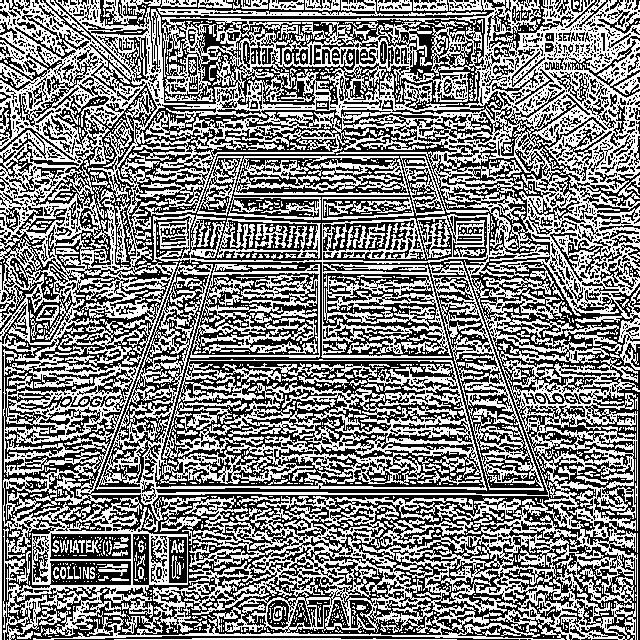left side: (398, 153, 547, 493), (93, 154, 243, 491)
player: (136, 417, 166, 540), (331, 74, 346, 154)
